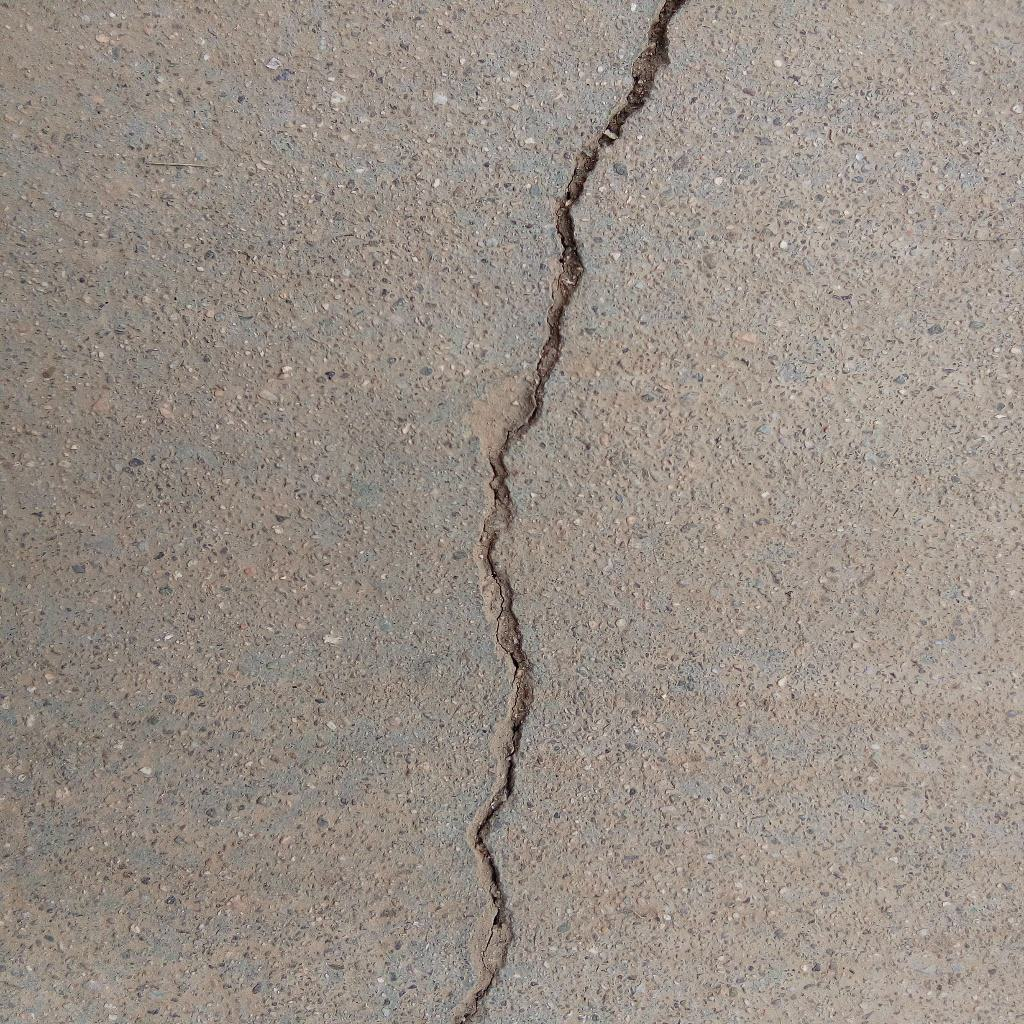Crack: (450, 1, 688, 1024)
